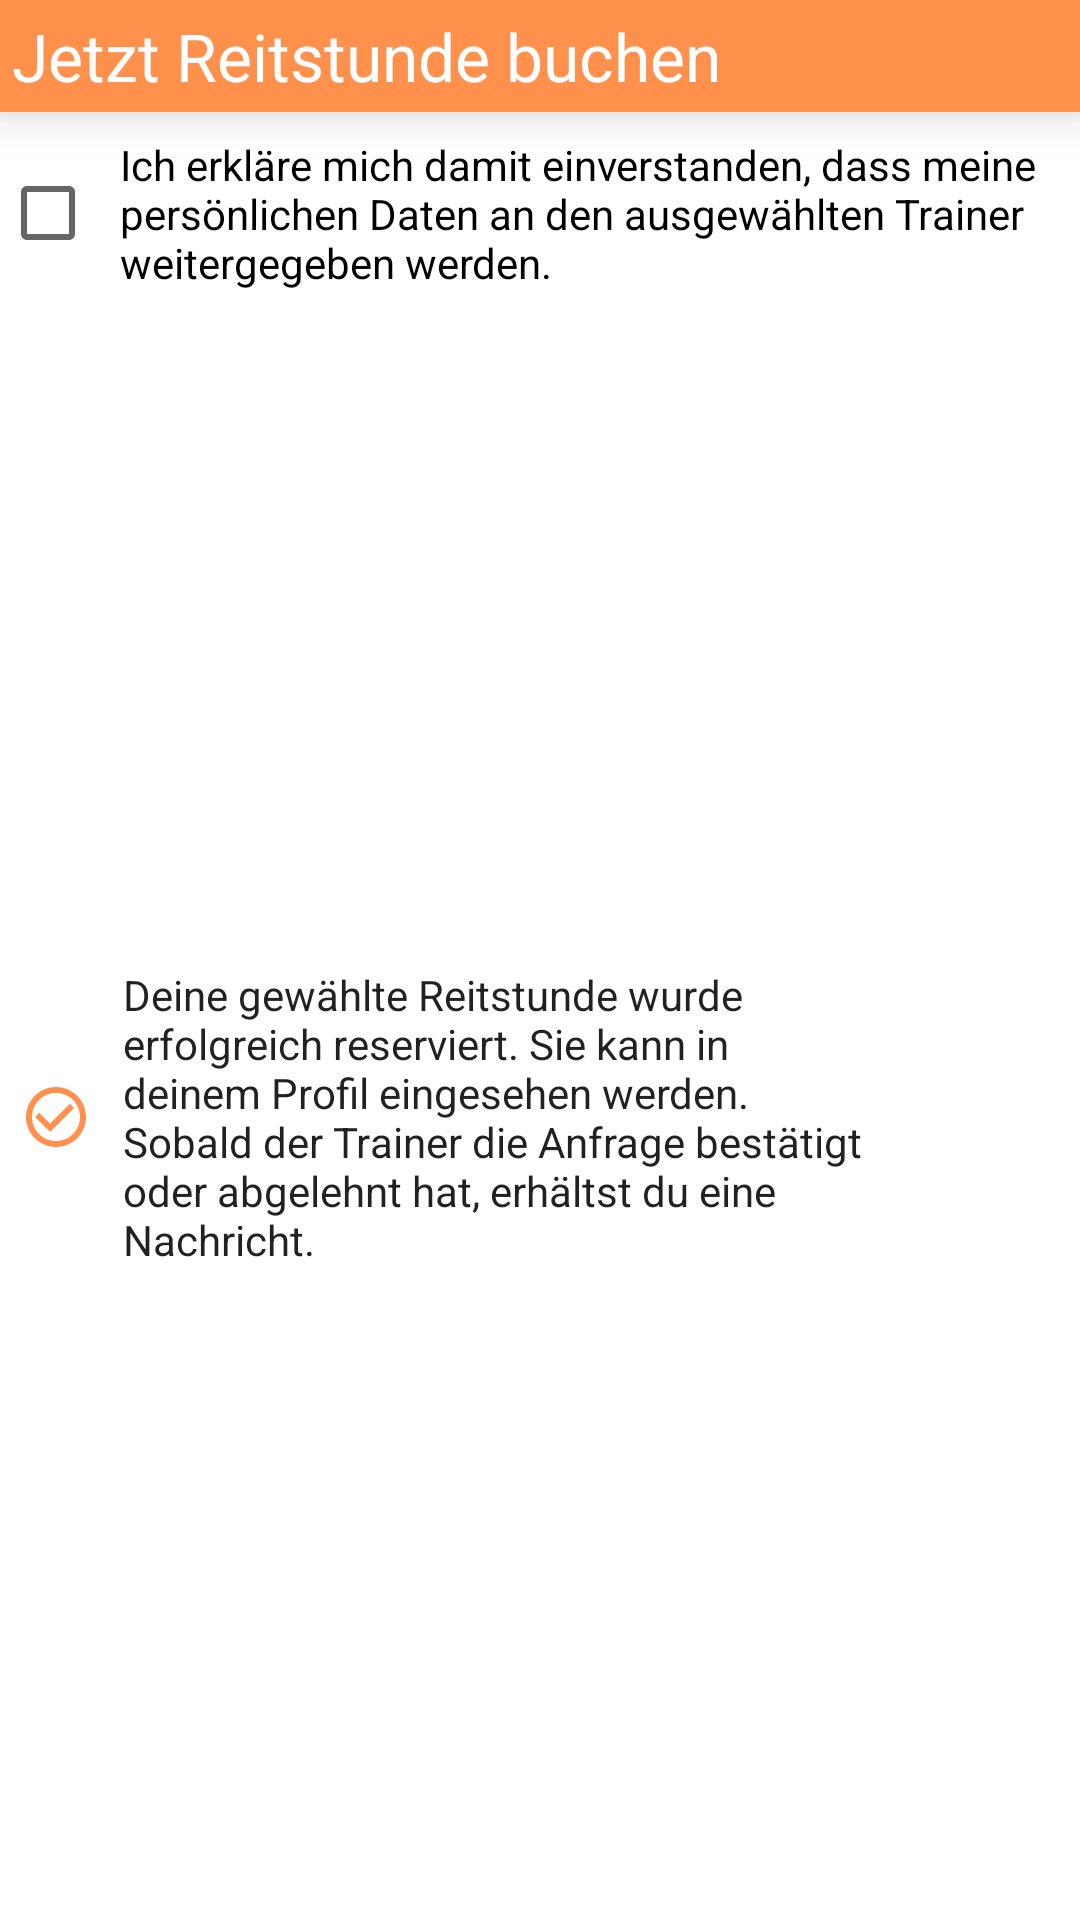

Named icons in this screenshot (1080×1920) and their centers, point (x, y):
check circle: point (56, 1117)
